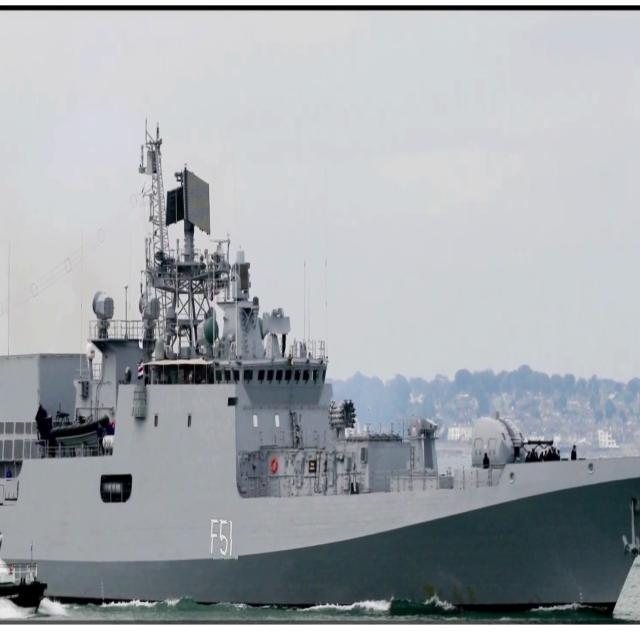OCR: (204, 511, 238, 564)
